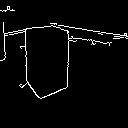cube: (17, 24, 77, 100)
